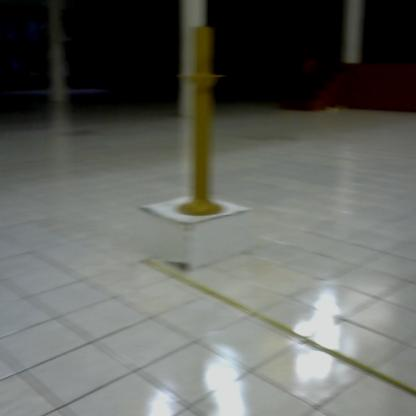pole: (171, 19, 238, 225)
